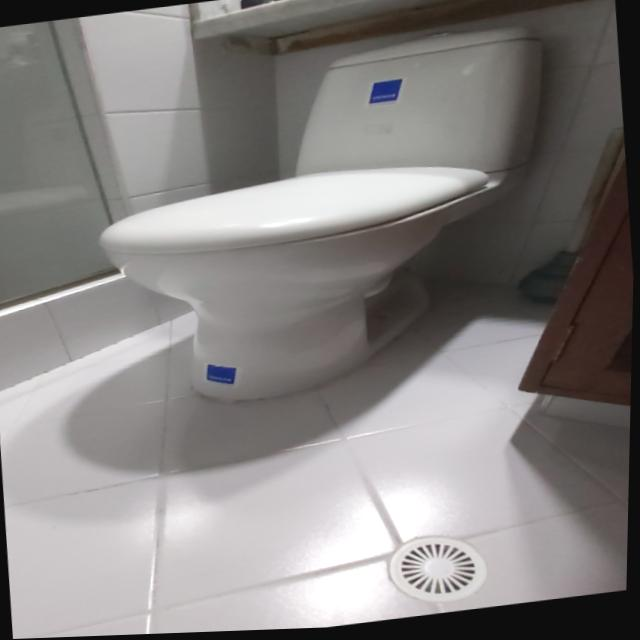toilet: (79, 19, 600, 424)
